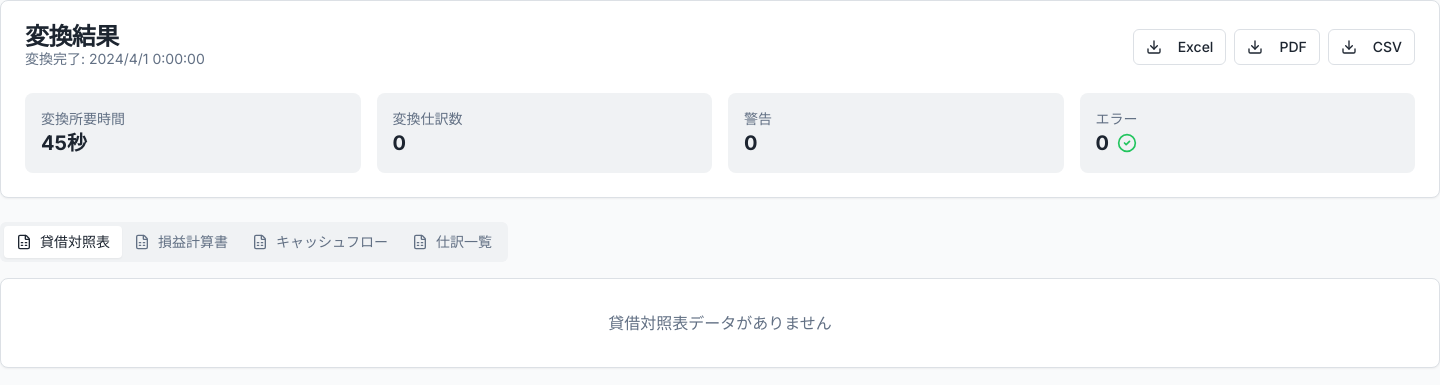
Test: conversion-result-viewer — statement tabs › shows the empty-state message when profit-loss is absent
Press the mouse on the tab "損益計算書": [181, 242] box [122,226,240,258]
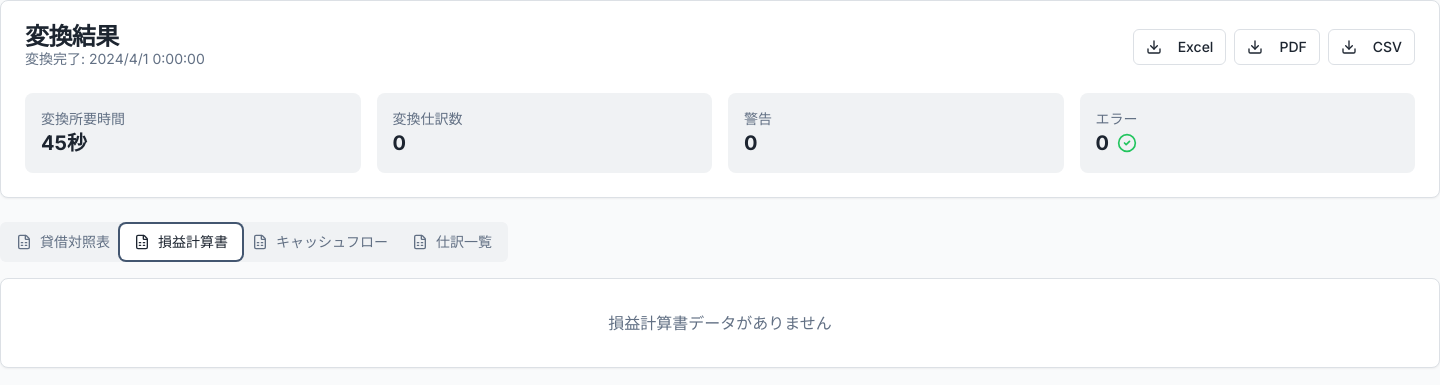
Expected: the text "損益計算書データがありません" is shown, [608,313,832,333]
